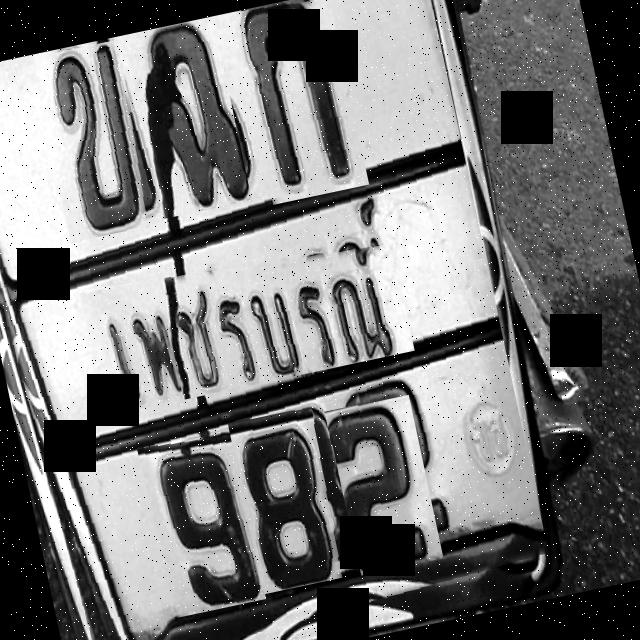letters: (226, 0, 368, 205), (120, 16, 252, 219), (32, 39, 158, 243), (137, 428, 266, 618), (228, 405, 346, 594), (324, 394, 443, 576)
license-plate: (0, 0, 548, 640)
province: (78, 226, 414, 417)
